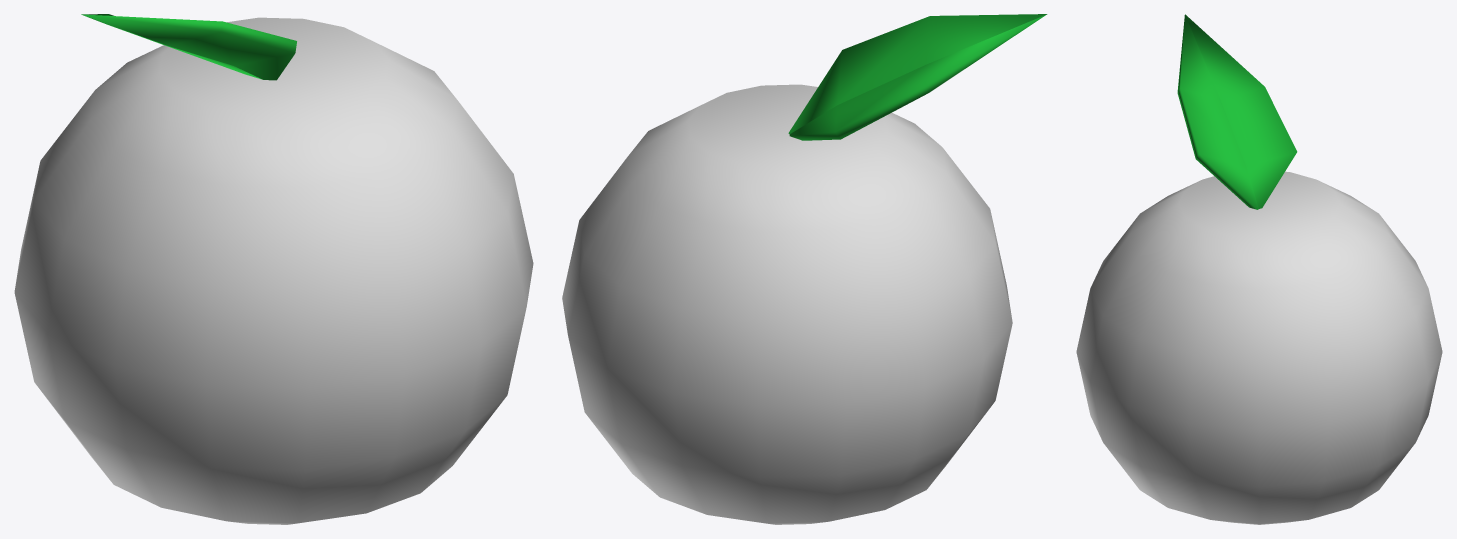
The model's file is orange-full.fbx.
The picture shows the model from 3 angles, left to right: view 1: azimuth 30°, elevation 25°; view 2: azimuth 150°, elevation 25°; view 3: azimuth 270°, elevation 25°; orthographic projection. The views are drawn at different scales.
Parts seen in each view (by area): view 1: Orange-full; view 2: Orange-full; view 3: Orange-full.
Part boxes in pixels (x1,y1,x2,y2): Orange-full: (14, 14, 533, 524); Orange-full: (562, 14, 1047, 524); Orange-full: (1076, 14, 1442, 524).
Size of the model in its own units: 209 by 253 by 200.
